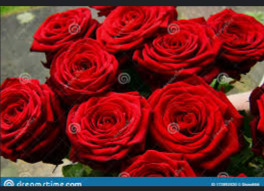RedRose: (150, 74, 246, 165), (0, 74, 64, 166), (137, 12, 224, 77), (67, 93, 147, 152), (36, 11, 98, 54)
